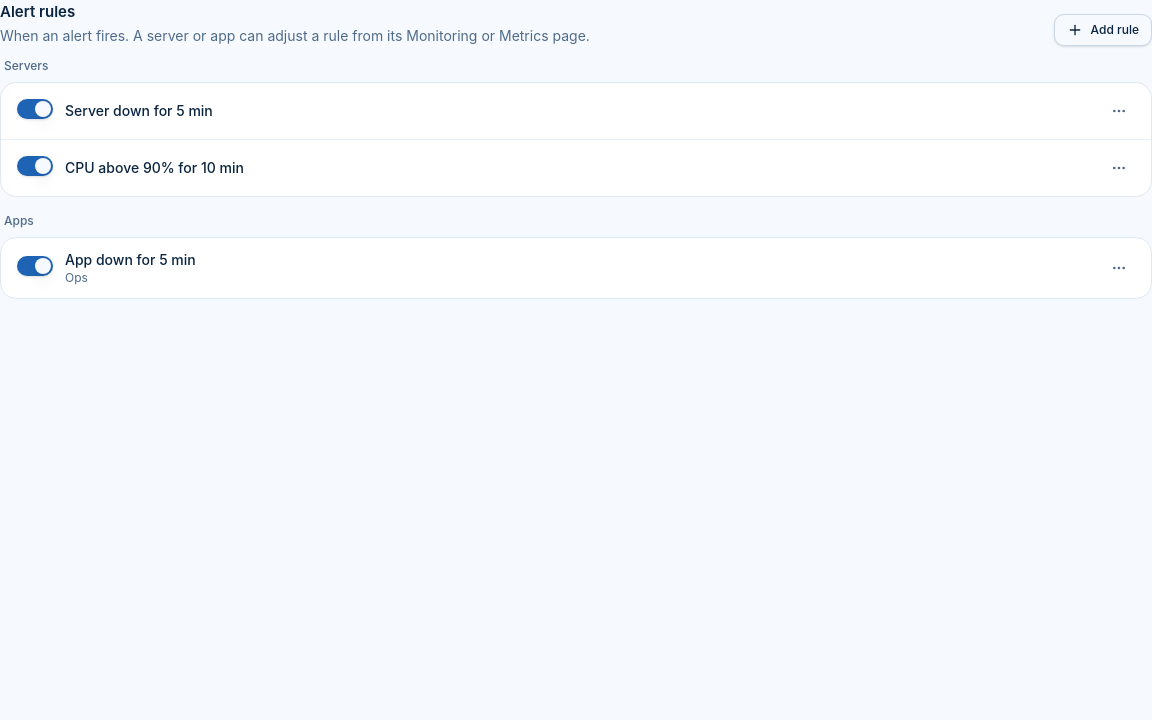
Test: RulesSection › opens the rule dialog to edit one
Click the button named "Actions for CPU above 90% for 10 min".
click(1119, 168)  # box [1103,152,1135,184]
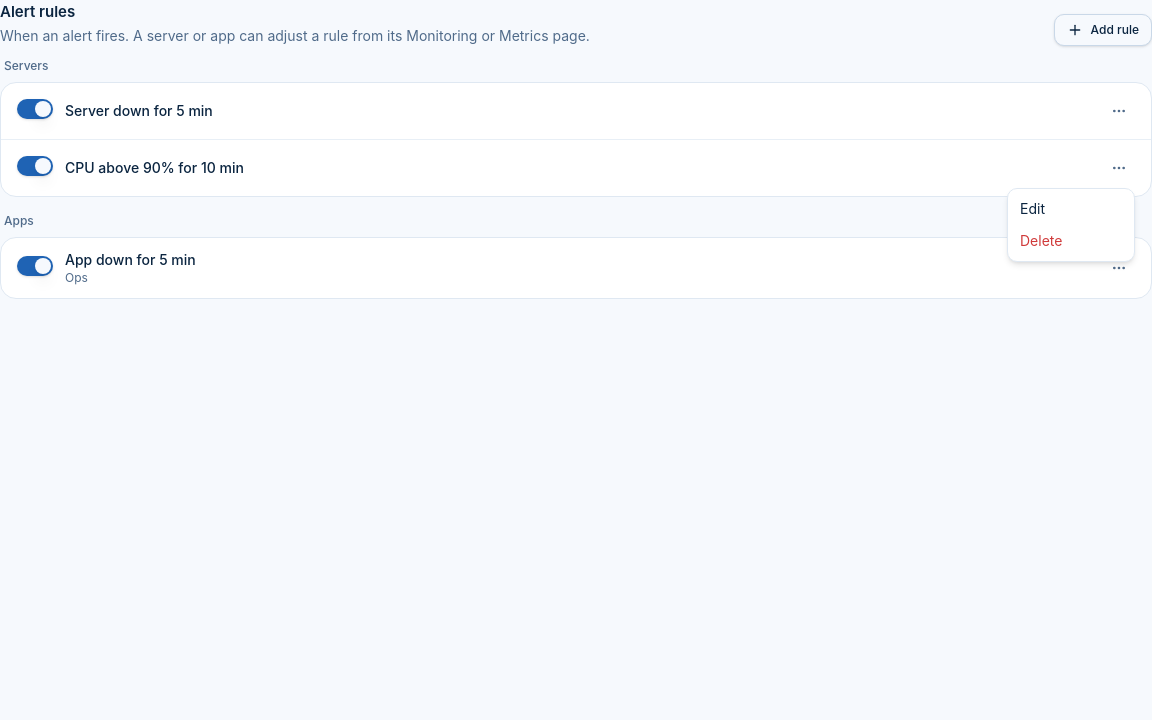
Click the menu item "Edit".
click(1032, 208)  # box [1020,200,1045,217]
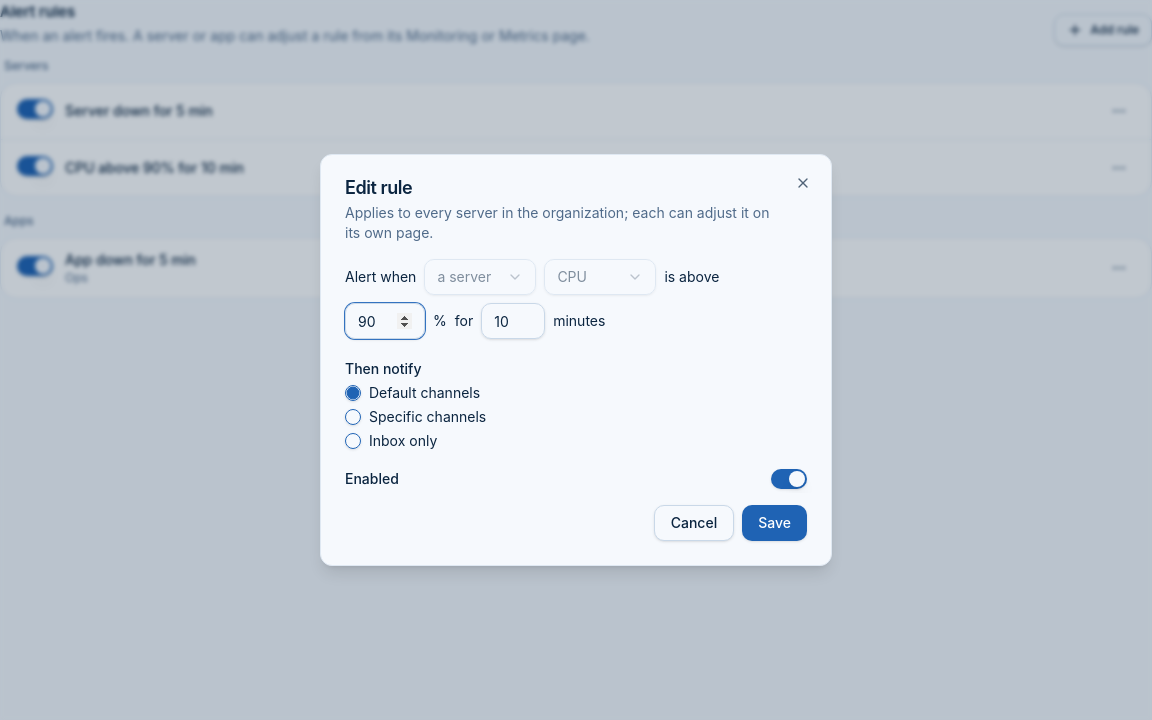
Result: the heading "Edit rule" is shown at [345,177,412,198]
Result: the number field named "Above" holds "90" at [345,303,425,339]
